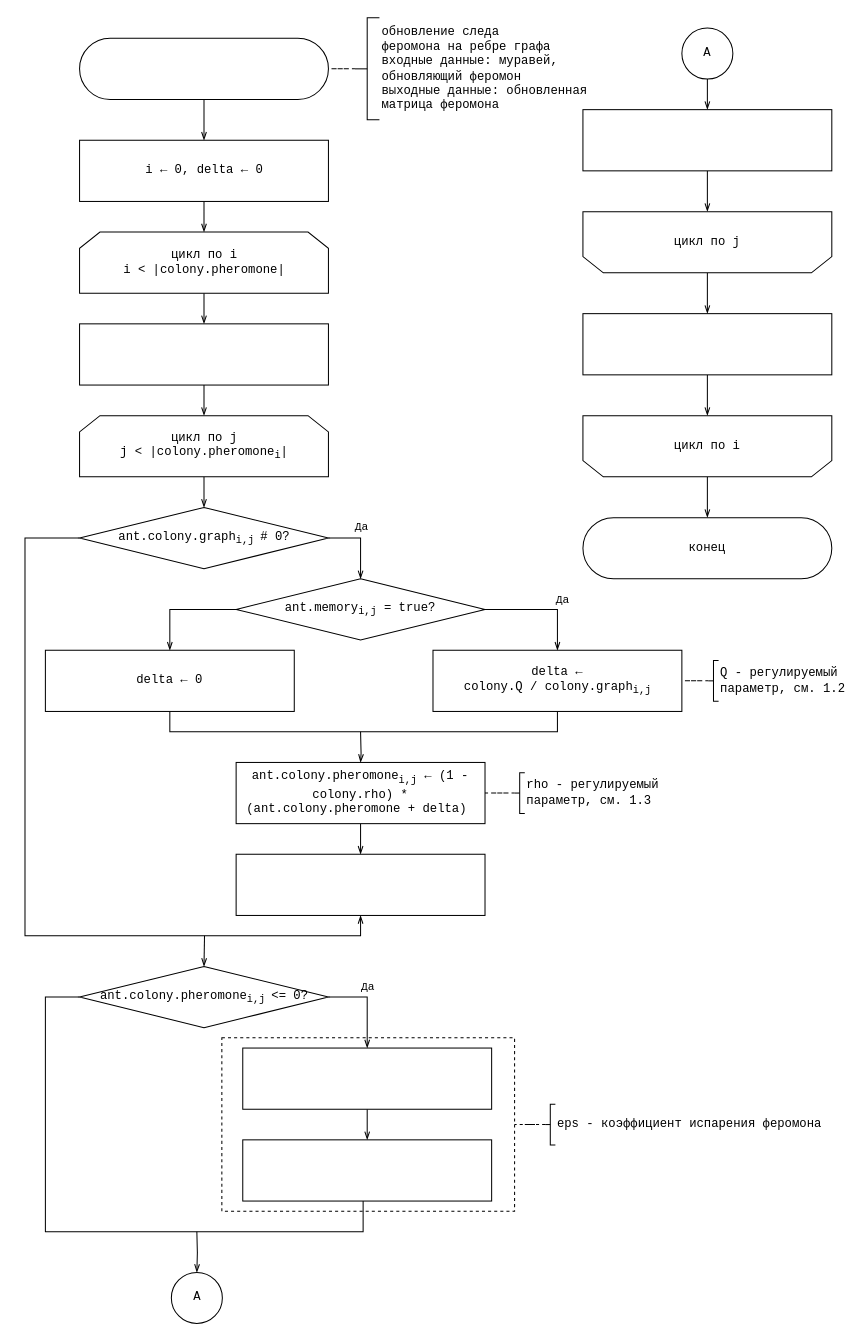
Some shapes in this 863 by 1341 pixel diagram are drawn without their labels. The box of each missing label's shape, as (x1, y1, x2, y2) in pixels:
ant.colony.pheromone i,j = eps: (242, 1047, 492, 1109)
ant.colony.pheromone j,i = eps: (242, 1139, 492, 1201)
ant.colony.pheromone j,i ← (1 - colony.rho) * (ant.colony.pheromone + delta): (235, 853, 485, 915)
i + 1: (582, 313, 832, 375)
j + 1: (582, 109, 832, 171)
j ← 0: (79, 323, 328, 385)
начало: (79, 37, 328, 99)
